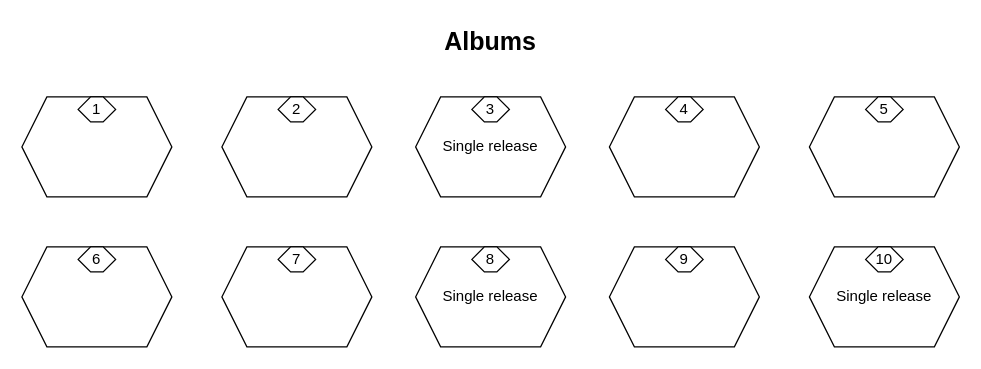
Image size: 981x369. Some labels were removed from this diagram. The shapes that lost their labels are listed below. From the top down, each one's box as (x1, y1, x2, y2) in pixels, then its label:
(21, 96, 172, 197): BDay Deluxe Edition
(221, 96, 372, 197): Beerbongs & Bentleys
(608, 96, 759, 197): Recovery
(808, 96, 959, 197): An Evening with Silk Sonic
(21, 246, 172, 347): Charlies Angels
(221, 246, 372, 347): After Hours
(608, 246, 759, 347): Planet Her
